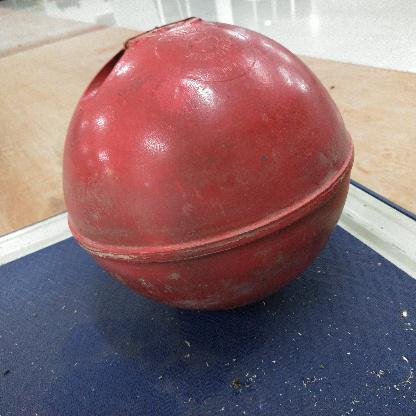red_buoy: (60, 15, 360, 318)
